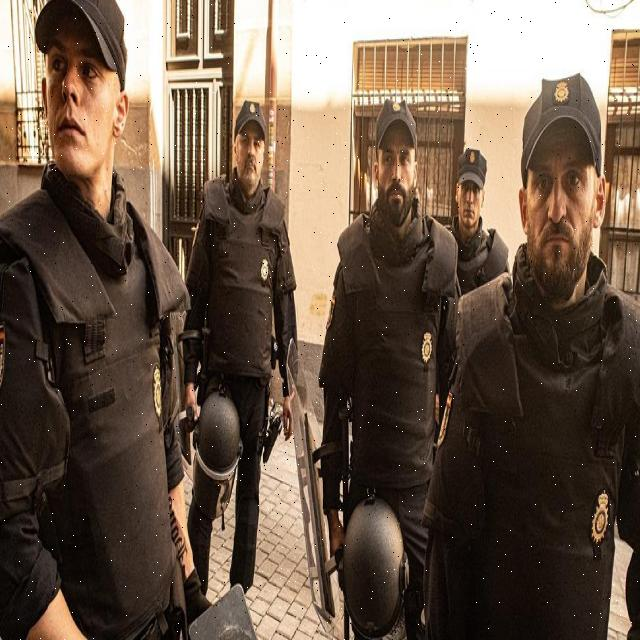police: (0, 0, 193, 640), (453, 59, 640, 640), (170, 80, 326, 636), (319, 87, 470, 640)
